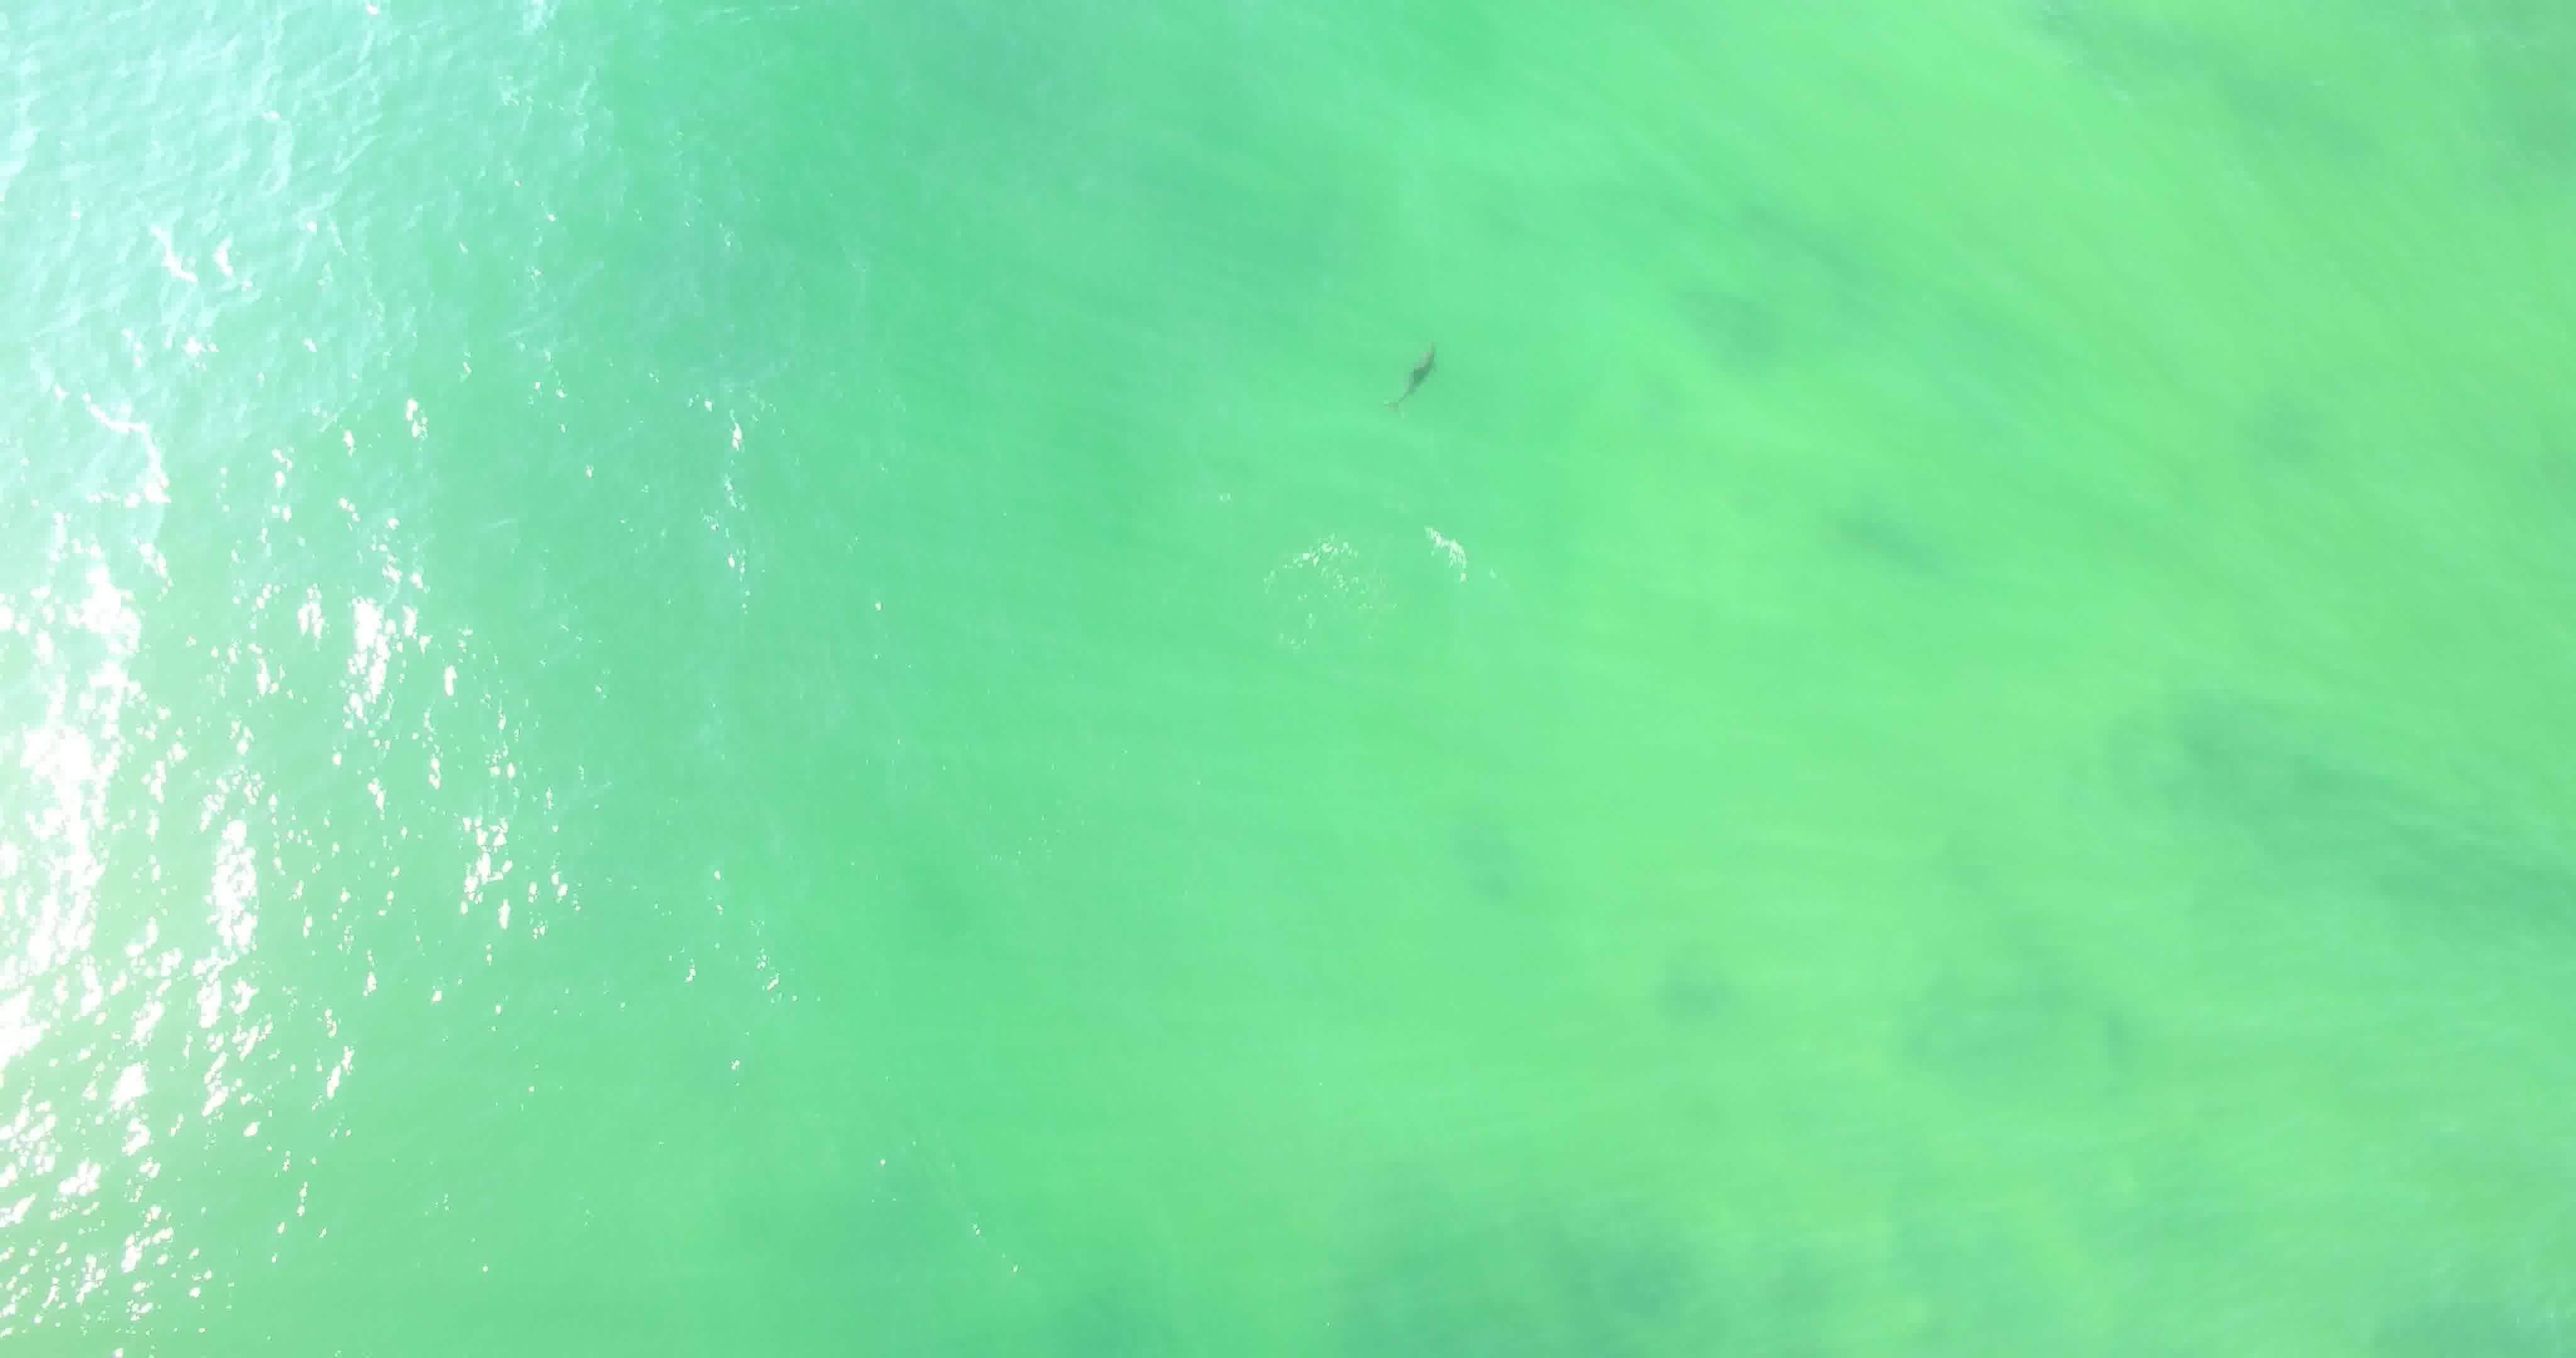dolphin: (1346, 302, 1469, 433)
